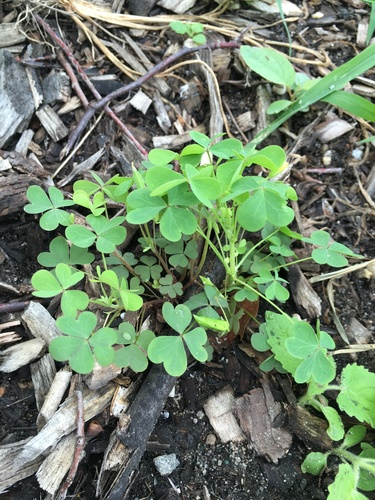oxalis: (25, 129, 315, 383)
